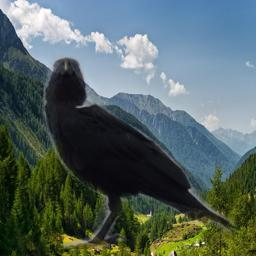Crow: (41, 55, 236, 249)
